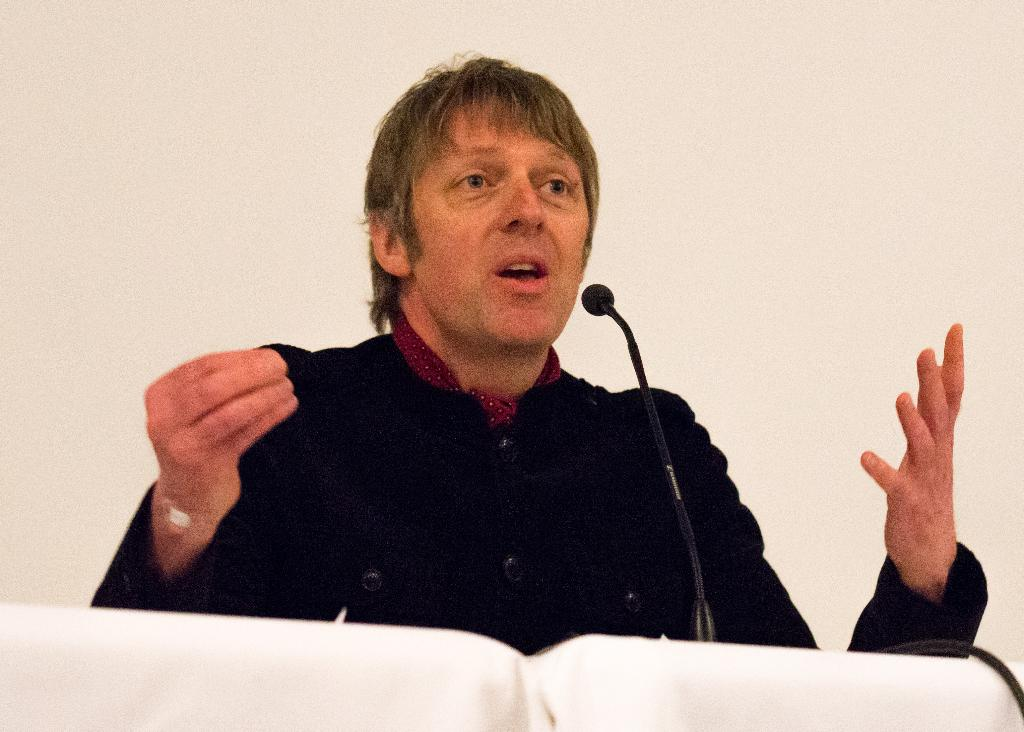Person: (90, 48, 987, 657)
